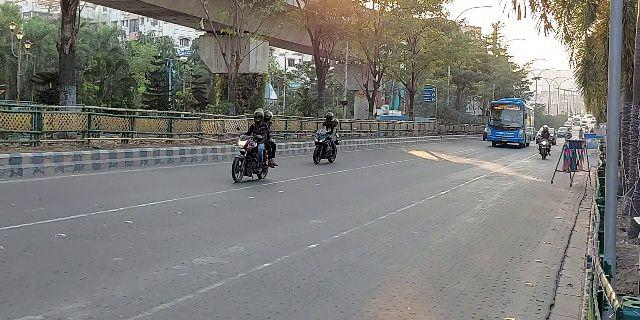Bus: (485, 95, 535, 151)
Motorbike: (229, 107, 279, 185), (310, 109, 342, 166), (535, 123, 552, 161)
